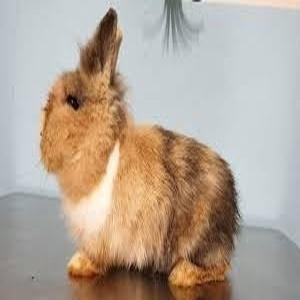rabbit: (40, 9, 241, 300)
